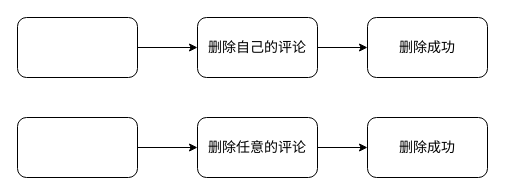
Some shapes in this 505 by 195 pixel diagram are drawn without their labels. The centre of each missing label's shape, as x and y in pixels:
"用户浏览新闻界面" belongs at pixel 77 47.
"管理员浏览新闻界面" belongs at pixel 77 147.
